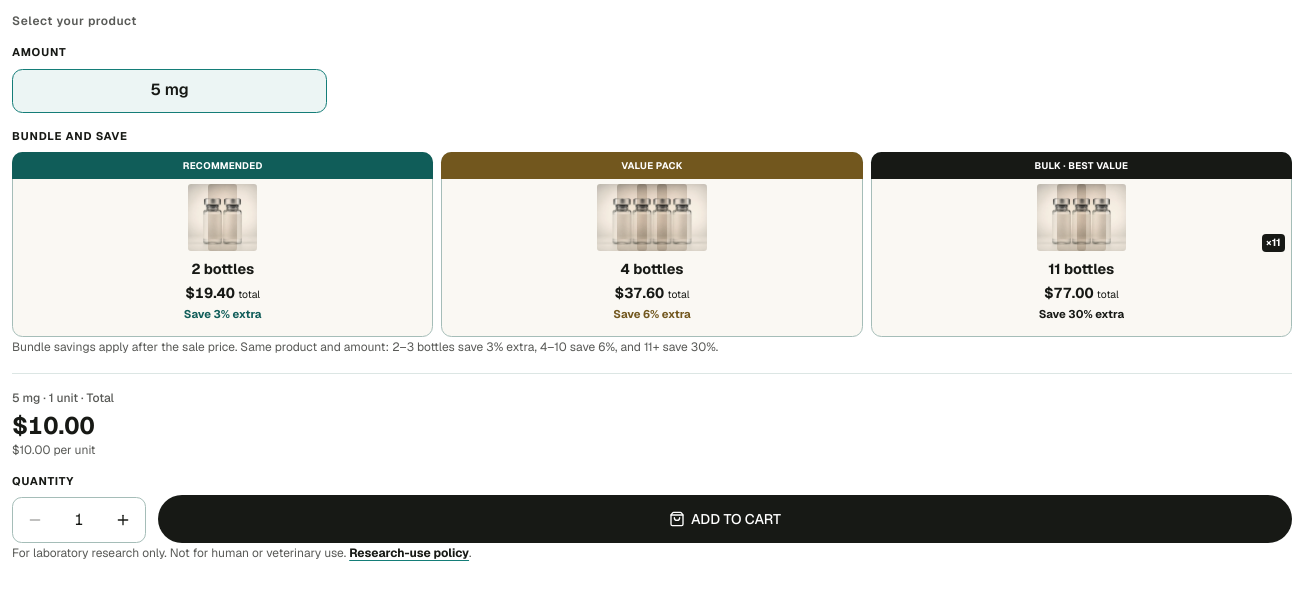
Scenario: ProductPurchasePanel › shows exact approved pricing for 2 units
The width and height of the screenshot is (1304, 610).
Replace the text in the number field labelled "Quantity" with "2" at point(79, 520), box [57, 498, 101, 542]
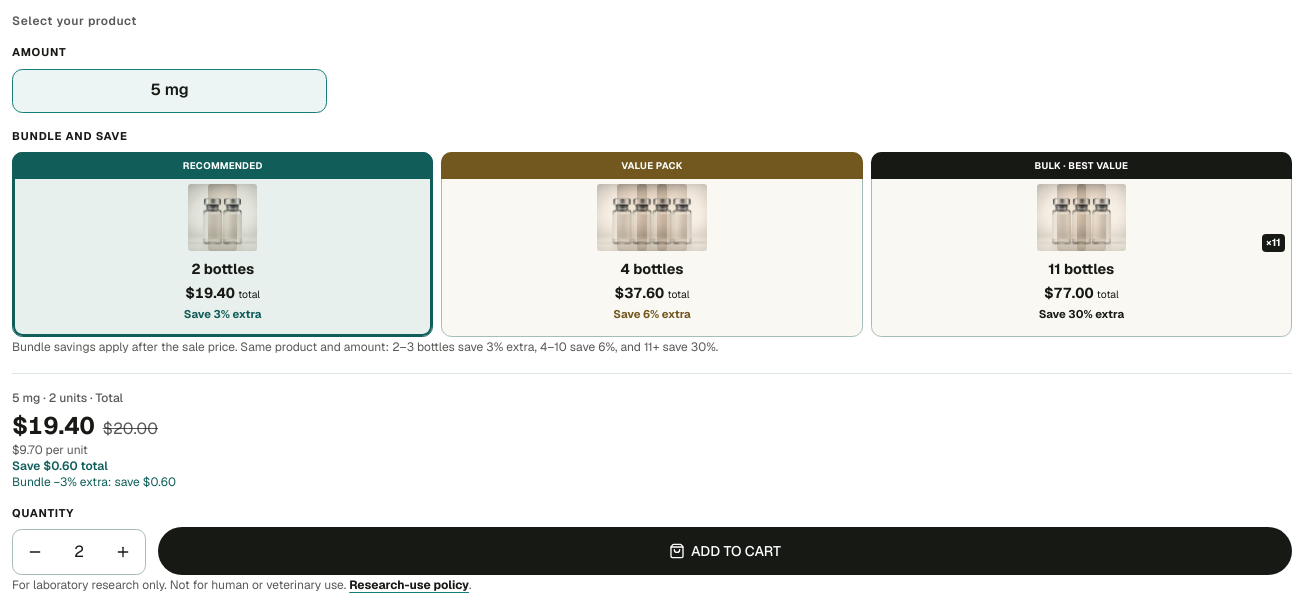
Check: the text "$19.40" is shown, box [12, 410, 95, 442]
Check: the text "$20.00" is shown, box [103, 418, 158, 440]
